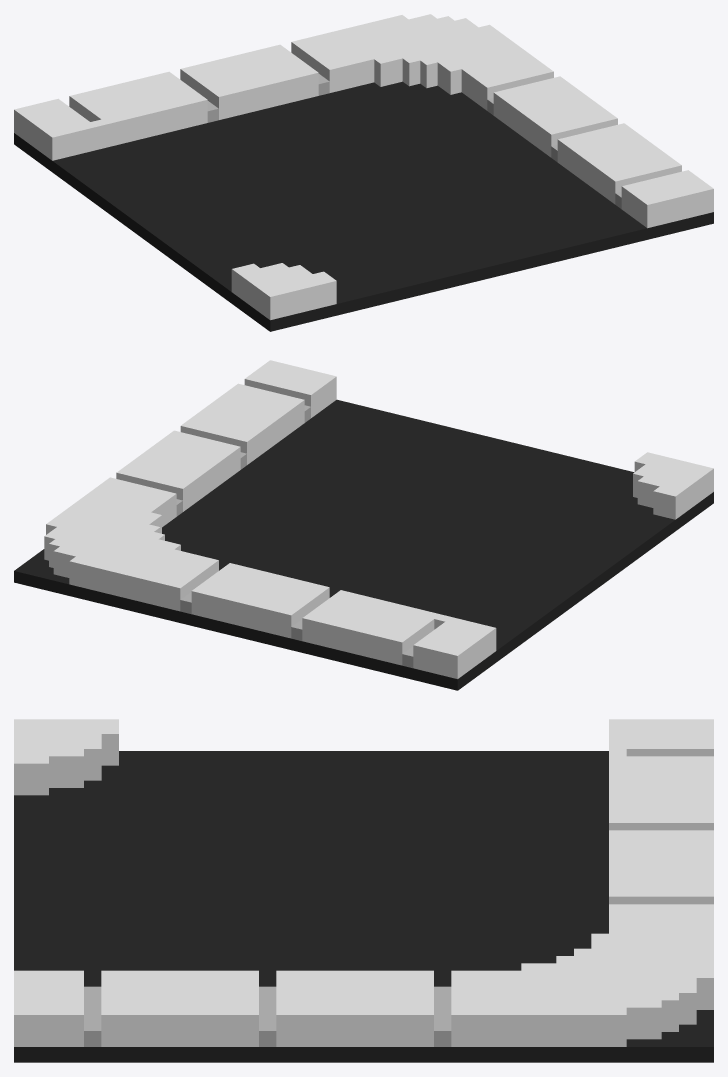
3 renders of one model, top to bottom at view 1: azimuth 30°, elevation 25°; view 2: azimuth 150°, elevation 25°; view 3: azimuth 270°, elevation 25°, orthographic. The views are drawn at different scales.
Parts seen in each view (by area): view 1: Matrix_3; view 2: Matrix_3; view 3: Matrix_3.
Part boxes in pixels (x1,y1,x2,y2): Matrix_3: (14,14,713,331); Matrix_3: (14,360,713,690); Matrix_3: (14,719,713,1062).
Size of the model in its own units: 40 by 3 by 40.
1 material, 1 textured.
